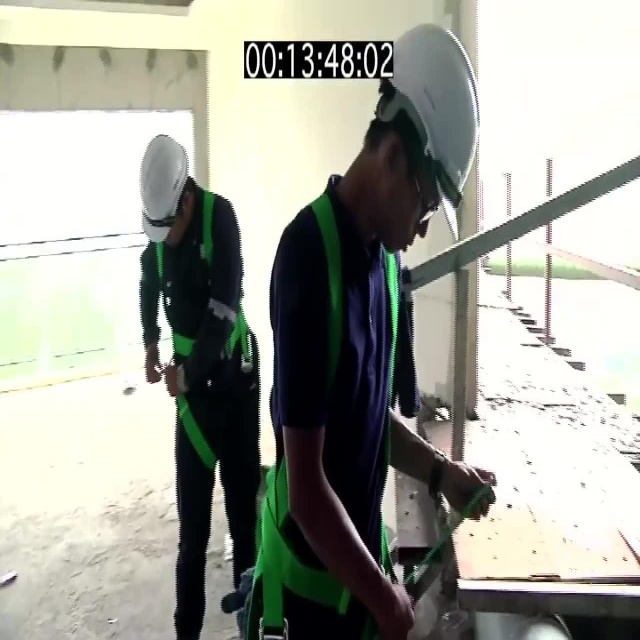Arnes_seguridad: (261, 183, 398, 617), (156, 187, 254, 468)
